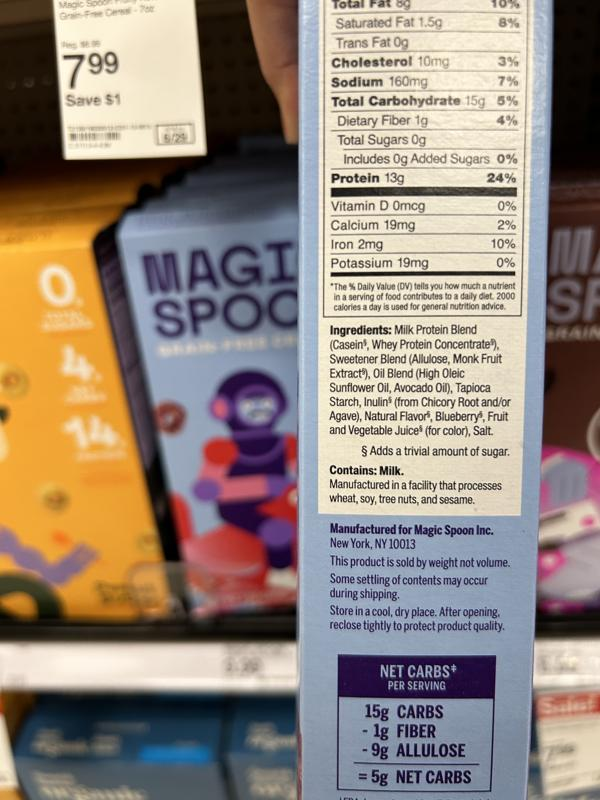ingredients: (326, 323, 514, 440)
